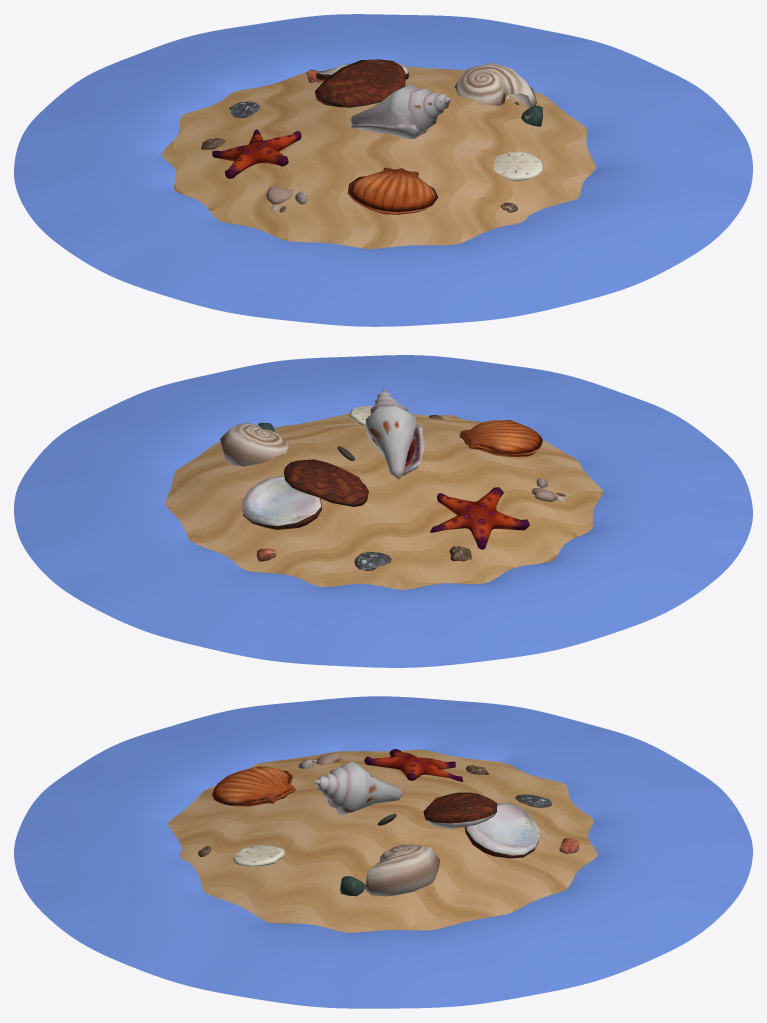
Rendered from by_the_sea_side_-_hand_painted_shells.glb.
The picture shows the model from 3 angles, top to bottom: view 1: azimuth 30°, elevation 25°; view 2: azimuth 150°, elevation 25°; view 3: azimuth 270°, elevation 25°; orthographic projection.
Parts seen in each view (by area): view 1: Sea_24, Sand_16, Cone_Shell_22, mother_of_pearl_20, Shell.001_25, Naut_shell_21, Star_fish_23, Sand_Dolla_18; view 2: Sea_24, Sand_16, Cone_Shell_22, mother_of_pearl.001_19, mother_of_pearl_20, Star_fish_23, Naut_shell_21, Shell.001_25, Pepple.005_2; view 3: Sea_24, Sand_16, Naut_shell_21, mother_of_pearl.001_19, Cone_Shell_22, Shell.001_25, mother_of_pearl_20, Star_fish_23, Sand_Dolla_18.
Part boxes in pixels (x1=…): Sea_24: x1=14, y1=14, x2=752, y2=326; Sand_16: x1=161, y1=66, x2=595, y2=248; Cone_Shell_22: x1=349, y1=84, x2=452, y2=138; mother_of_pearl_20: x1=315, y1=59, x2=405, y2=107; Shell.001_25: x1=349, y1=167, x2=438, y2=211; Naut_shell_21: x1=454, y1=62, x2=537, y2=107; Star_fish_23: x1=212, y1=129, x2=301, y2=178; Sand_Dolla_18: x1=494, y1=152, x2=543, y2=181; Sea_24: x1=14, y1=355, x2=752, y2=667; Sand_16: x1=164, y1=413, x2=603, y2=589; Cone_Shell_22: x1=365, y1=389, x2=424, y2=479; mother_of_pearl.001_19: x1=242, y1=475, x2=321, y2=529; mother_of_pearl_20: x1=284, y1=459, x2=368, y2=506; Star_fish_23: x1=430, y1=487, x2=529, y2=549; Naut_shell_21: x1=220, y1=423, x2=288, y2=466; Shell.001_25: x1=460, y1=420, x2=542, y2=454; Pepple.005_2: x1=354, y1=552, x2=391, y2=570; Sea_24: x1=14, y1=696, x2=752, y2=1008; Sand_16: x1=167, y1=749, x2=597, y2=932; Naut_shell_21: x1=365, y1=844, x2=439, y2=896; mother_of_pearl.001_19: x1=464, y1=802, x2=539, y2=858; Cone_Shell_22: x1=313, y1=761, x2=402, y2=815; Shell.001_25: x1=212, y1=766, x2=293, y2=805; mother_of_pearl_20: x1=423, y1=792, x2=497, y2=828; Star_fish_23: x1=364, y1=749, x2=463, y2=781; Sand_Dolla_18: x1=232, y1=845, x2=285, y2=866.
Bounding box in the file's own units: 13.68 × 1.89 × 13.68.
10 materials, 9 textured.
